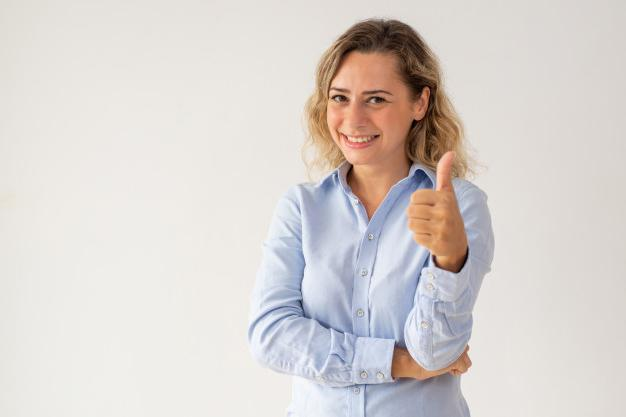thumbsup: (406, 150, 458, 248)
